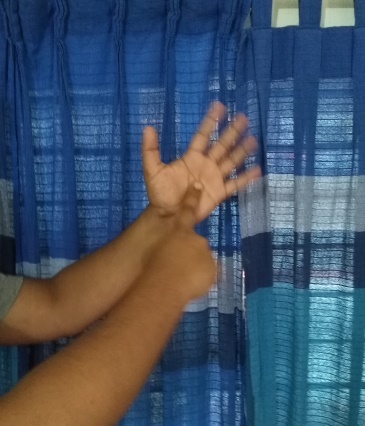oo: (144, 101, 263, 309)
